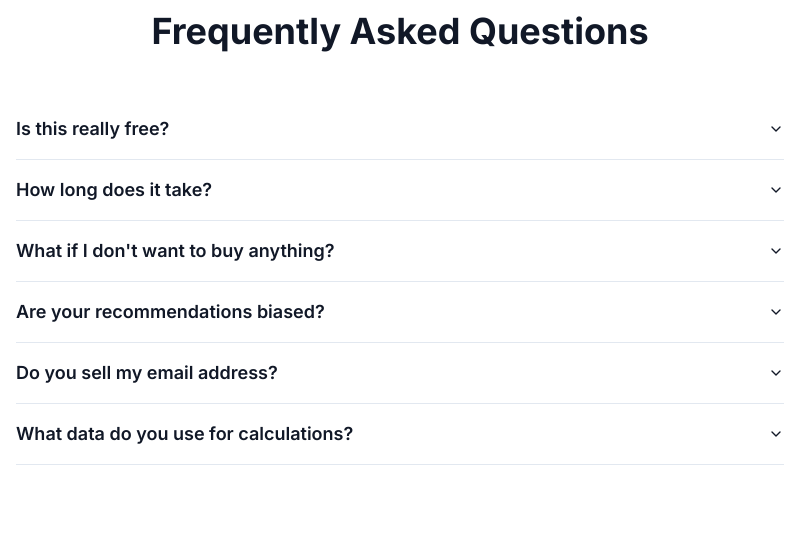
FAQ Component › hides answer when question is clicked again
This screenshot has width=801, height=544.
Click the button "Is this really free?".
click(93, 128)  # box x1=16 y1=99 x2=784 y2=159
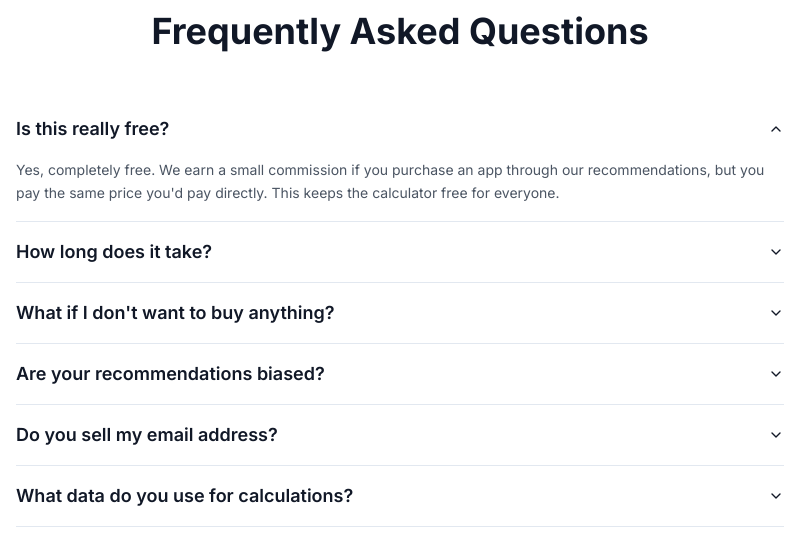
Click the button "Is this really free?".
click(93, 128)  # box x1=16 y1=99 x2=784 y2=159
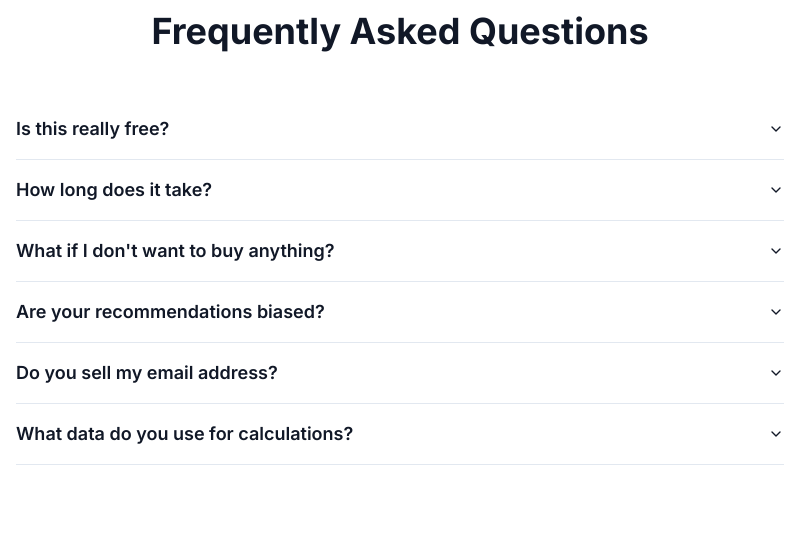
Result: the text "We earn a small commission" is gone
